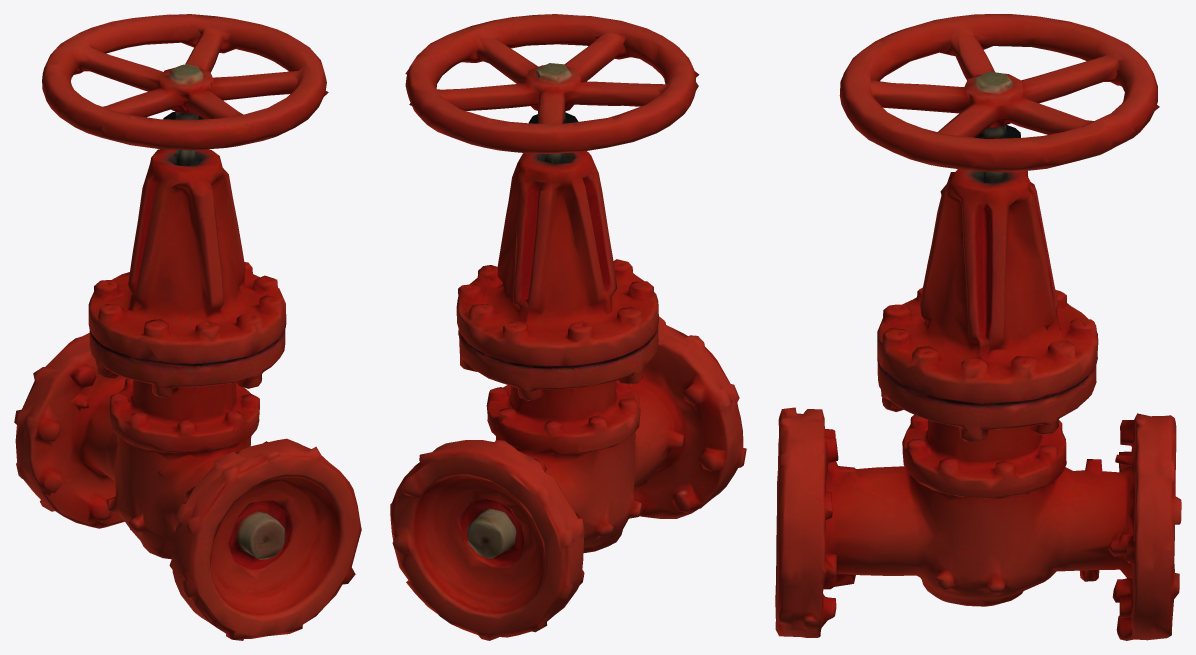
Rendered from gen-valve.glb.
3 views of the same model, side by side, from view 1: azimuth 30°, elevation 25°; view 2: azimuth 150°, elevation 25°; view 3: azimuth 270°, elevation 25° (orthographic). The views are drawn at different scales.
Parts seen in each view (by area): view 1: tripo_node_a92f1585-f4e9-483d-ba6b-a3b0405dee90; view 2: tripo_node_a92f1585-f4e9-483d-ba6b-a3b0405dee90; view 3: tripo_node_a92f1585-f4e9-483d-ba6b-a3b0405dee90.
Part boxes in pixels (box(x1,y1,x2,y2)): tripo_node_a92f1585-f4e9-483d-ba6b-a3b0405dee90: box(14, 14, 361, 640); tripo_node_a92f1585-f4e9-483d-ba6b-a3b0405dee90: box(390, 14, 746, 640); tripo_node_a92f1585-f4e9-483d-ba6b-a3b0405dee90: box(775, 14, 1181, 640).
Size of the model in its own units: 0.5279 by 1 by 0.6603.
1 material, 1 textured.
